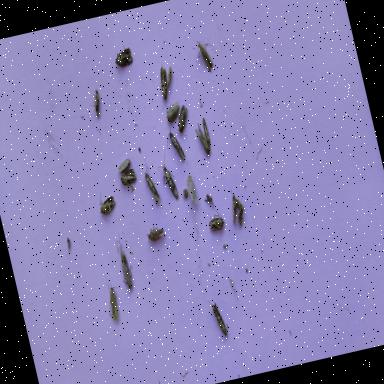pbw: (113, 237, 140, 296), (155, 154, 185, 207), (203, 288, 232, 341), (100, 274, 128, 328), (223, 188, 254, 236), (161, 125, 192, 171), (152, 62, 182, 109), (142, 166, 167, 216), (169, 99, 195, 143), (192, 116, 216, 163), (110, 43, 140, 79), (193, 34, 217, 75), (180, 168, 202, 212), (204, 201, 229, 239), (158, 96, 186, 129), (95, 190, 122, 224), (88, 86, 110, 124), (143, 218, 170, 248), (116, 163, 143, 192)
